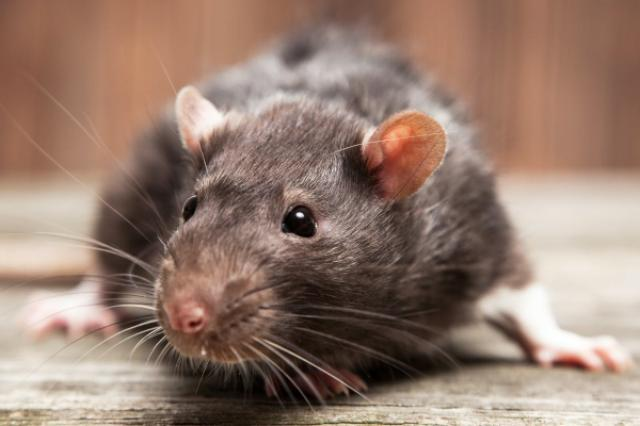rat: (75, 18, 562, 412)
